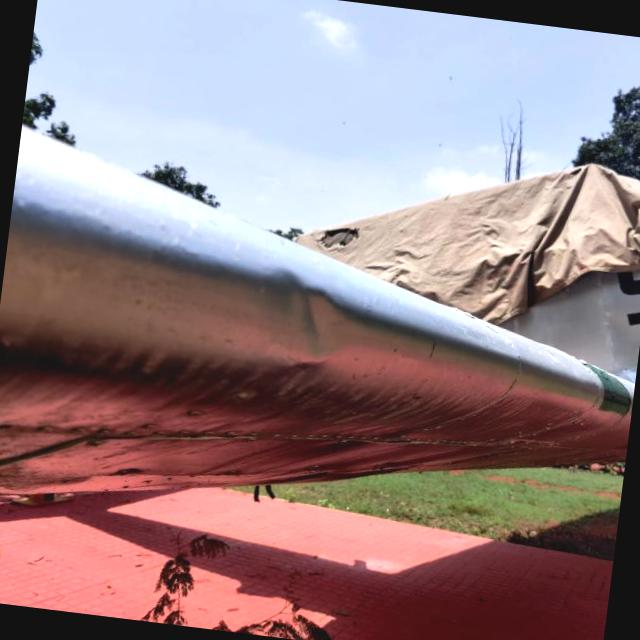dent: (238, 245, 370, 378)
